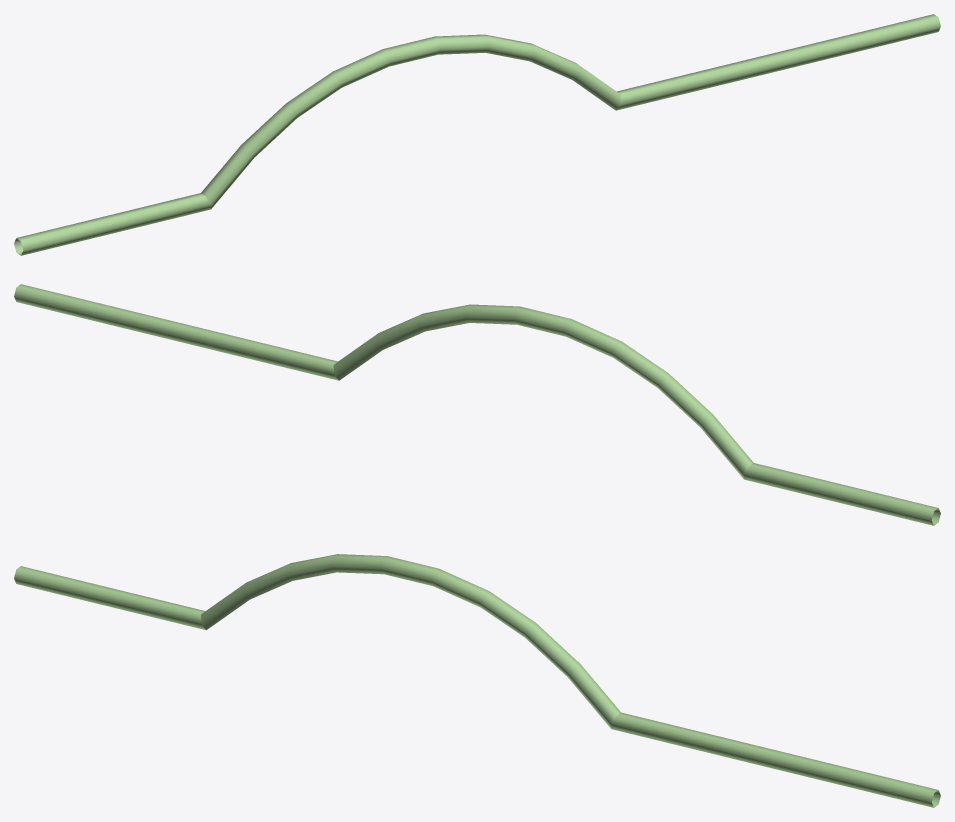
File: met decor 03 up.FBX
3 views of the same model, one above another, from view 1: azimuth 30°, elevation 25°; view 2: azimuth 150°, elevation 25°; view 3: azimuth 330°, elevation 25° (orthographic).
Visible parts, largest first — view 1: Line016; view 2: Line016; view 3: Line016.
Part boxes in pixels (x1,y1,x2,y2): Line016: (14, 14, 940, 255); Line016: (14, 284, 940, 525); Line016: (14, 554, 940, 807).
Size of the model in its own units: 4 by 0.4754 by 0.07.
